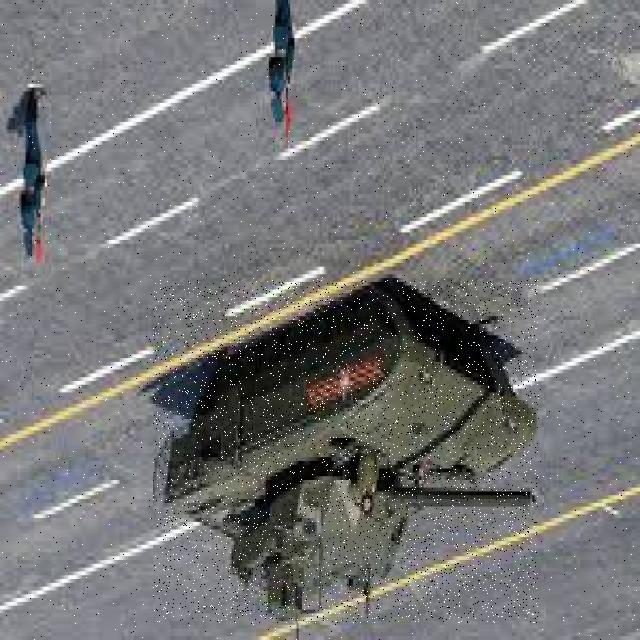MIL_MBT: (153, 280, 539, 623)
